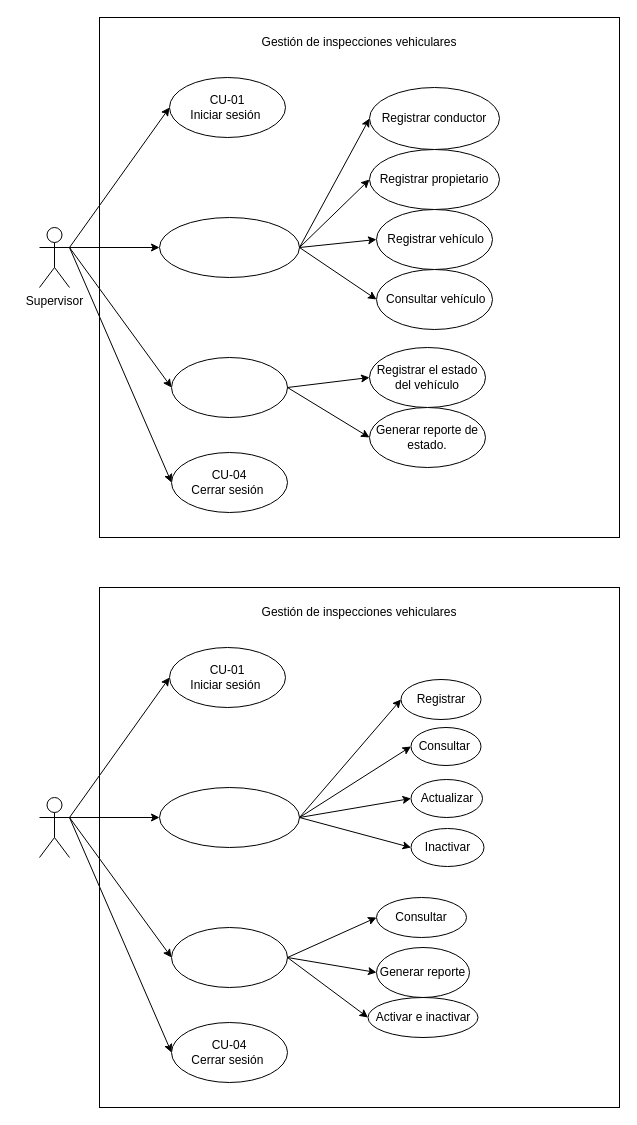
Image size: 637x1125. Some labels were removed from this diagram. Each missing label, with the centre of its shape:
"Administrador" belongs at point 54,827.
"CU-02 Gestión de los vehículos" belongs at point 229,247.
"CU-02 Gestión de usuarios" belongs at point 229,817.
"CU-03 Control del estado" belongs at point 229,387.
"CU-03 Gestión vehicular" belongs at point 229,957.
